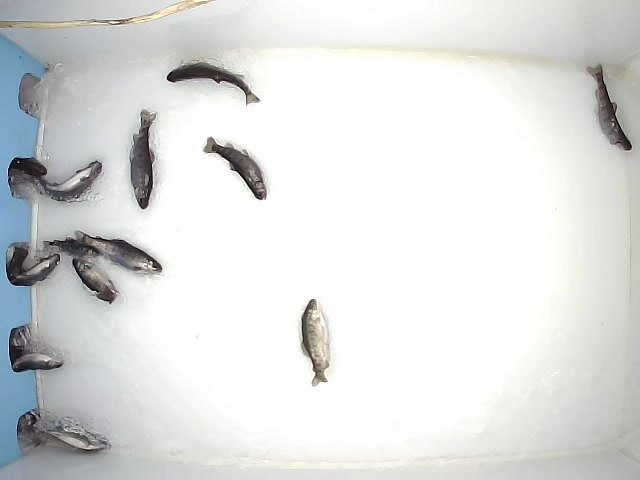fish: (165, 58, 261, 106), (201, 134, 268, 202), (585, 63, 633, 152), (72, 229, 163, 274), (27, 157, 103, 203), (127, 107, 159, 210), (298, 297, 332, 388), (24, 422, 109, 453), (70, 255, 118, 303), (9, 253, 60, 288), (7, 349, 64, 372)
